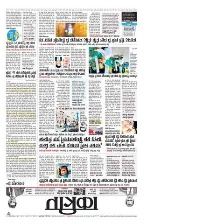news_paper: (5, 6, 138, 219)
